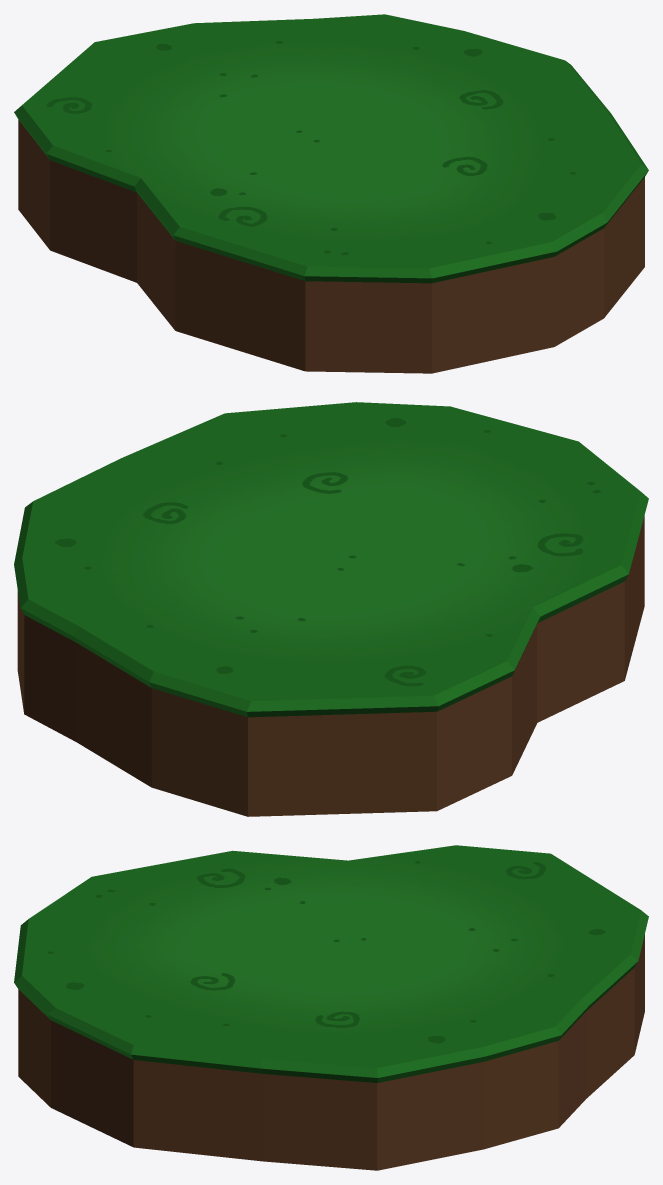
File: SmallPlatform3.fbx
3 renders of one model, top to bottom at view 1: azimuth 30°, elevation 25°; view 2: azimuth 150°, elevation 25°; view 3: azimuth 270°, elevation 25°, orthographic. The views are drawn at different scales.
Visible parts, largest first — view 1: GrassSMall; view 2: GrassSMall; view 3: GrassSMall.
Boxes of the visible parts, x1,y1,x2,y2 form: GrassSMall: (14, 14, 648, 373); GrassSMall: (14, 402, 648, 816); GrassSMall: (14, 845, 648, 1170).
Bounding box in the file's own units: 1019 × 208 × 1192.
Materials: 1 (1 with a texture image).
